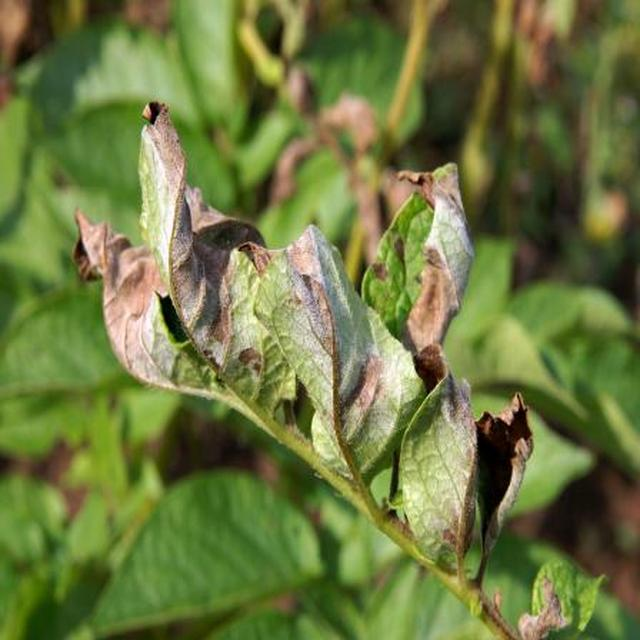Late Blight Leaf: (118, 272, 626, 640)
